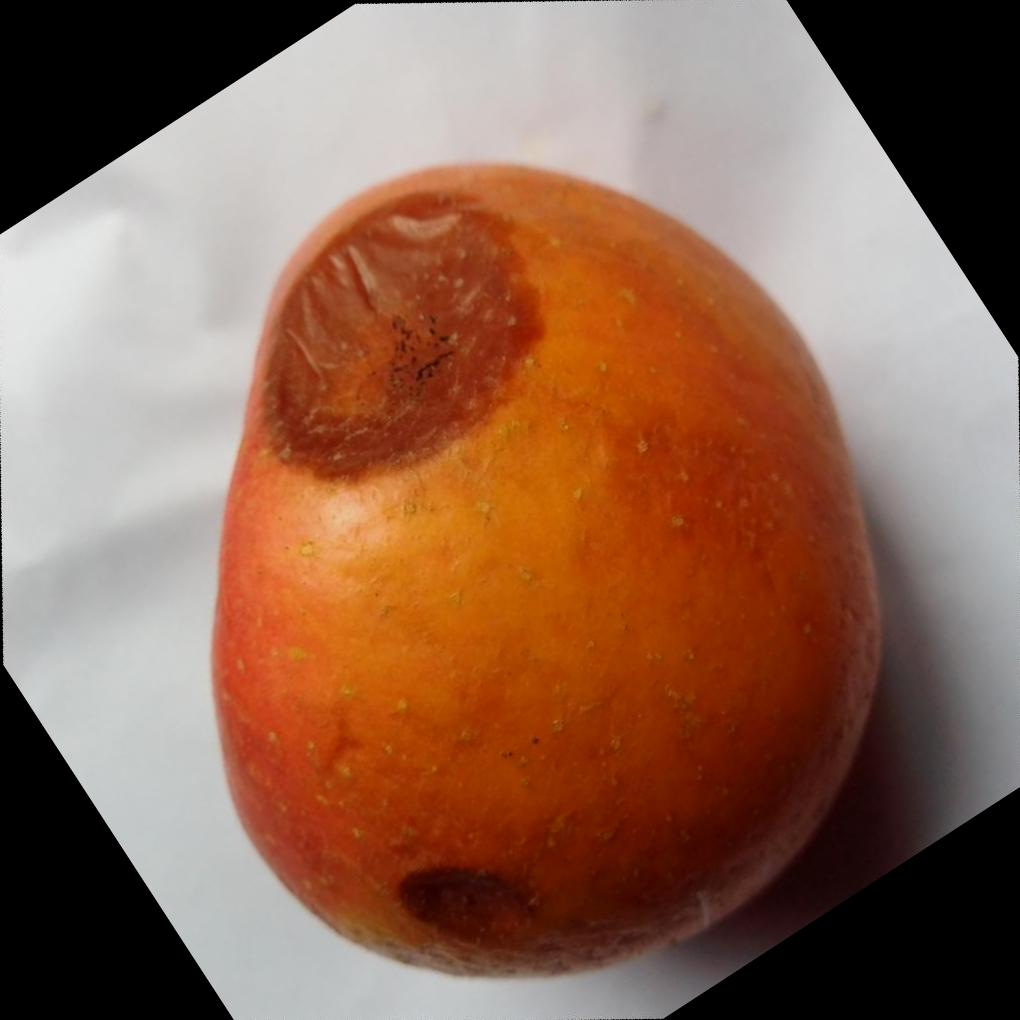FreshOrange: (207, 155, 882, 977)
